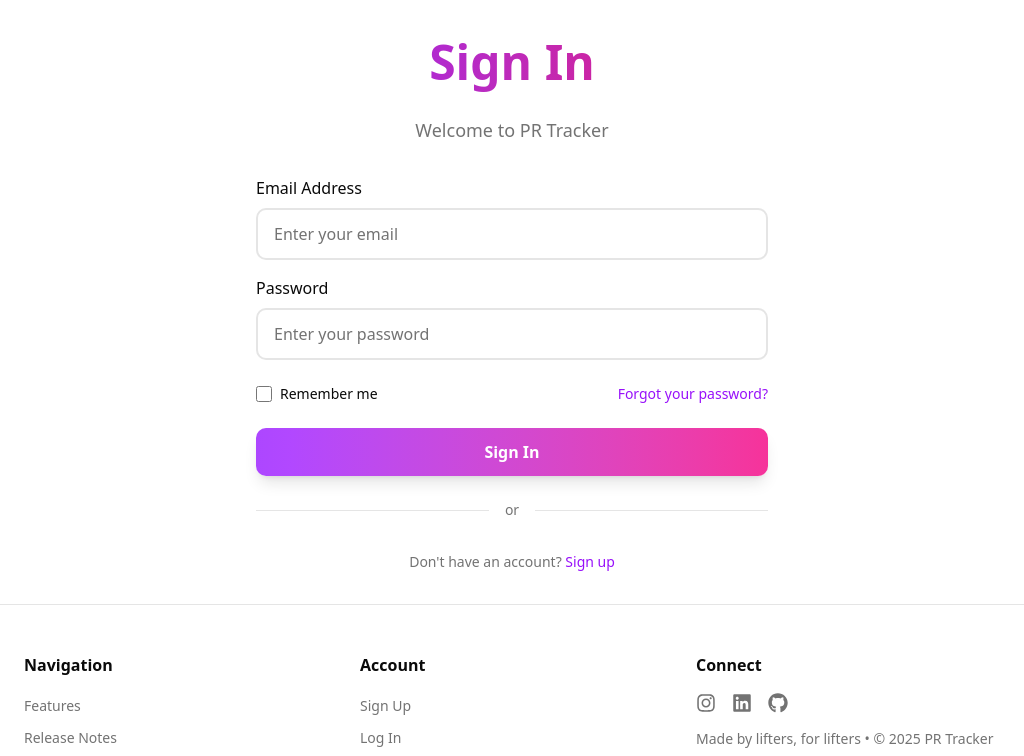
Test: LoginPage › Form Submission › shows error message on login failure
Type "test@example.com" into the field labelled "Email Address" at (512, 234), box [256, 208, 768, 260]
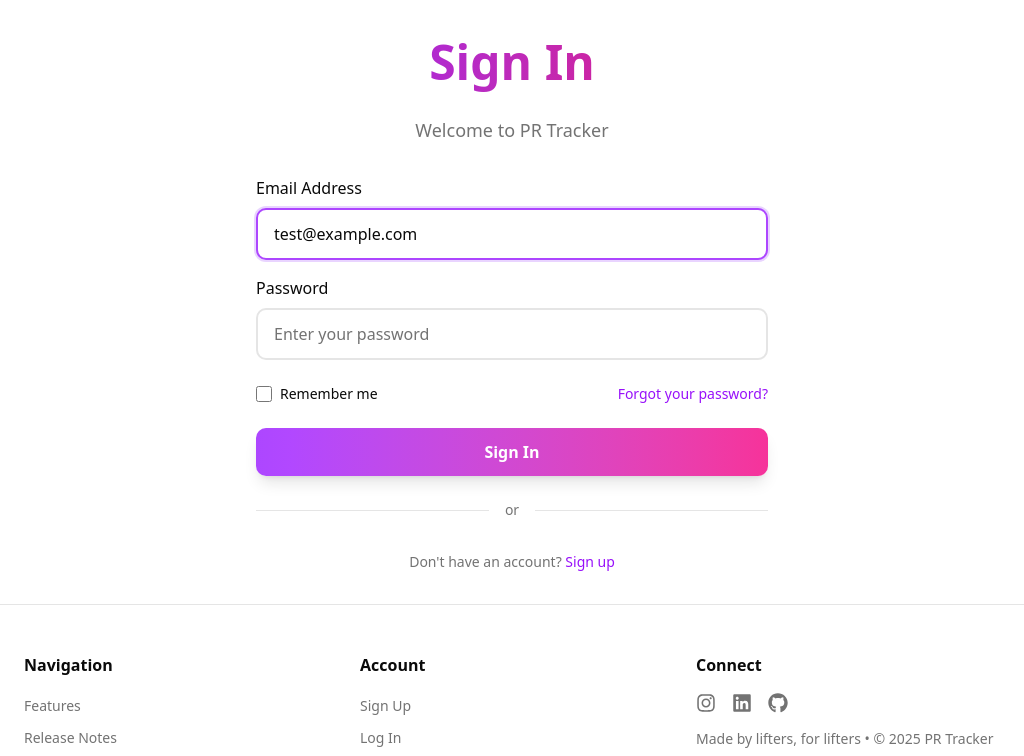
Type "wrongpassword" into the password field labelled "Password" at (512, 334), box [256, 308, 768, 360]
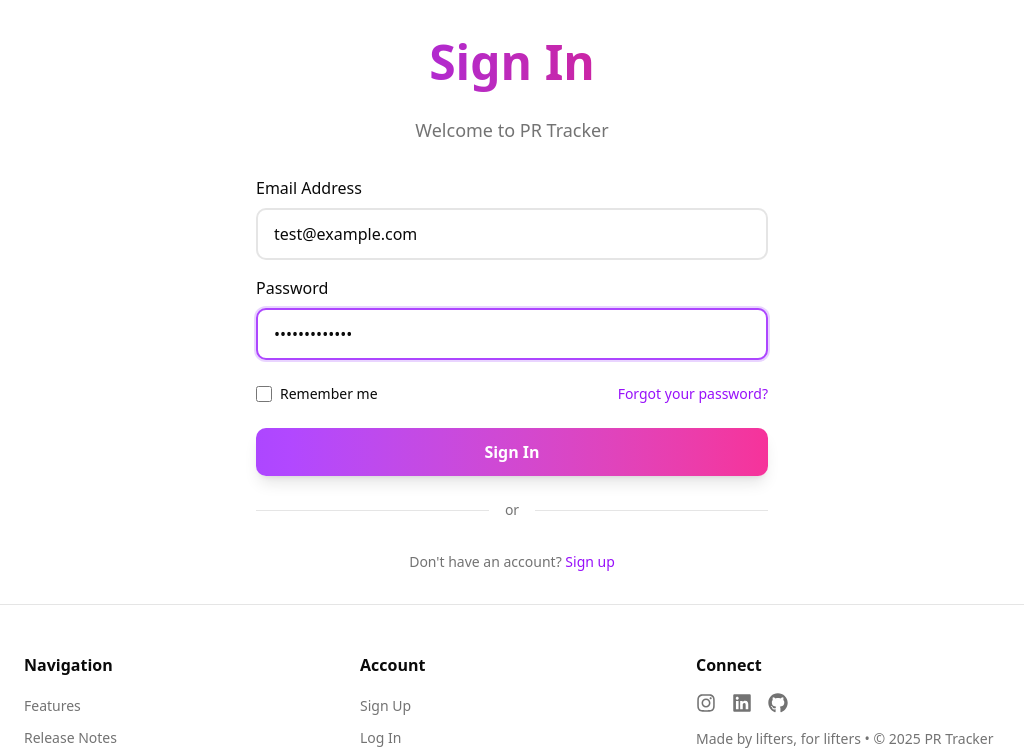
Click the button "Sign In" at (512, 452), box [256, 428, 768, 476]
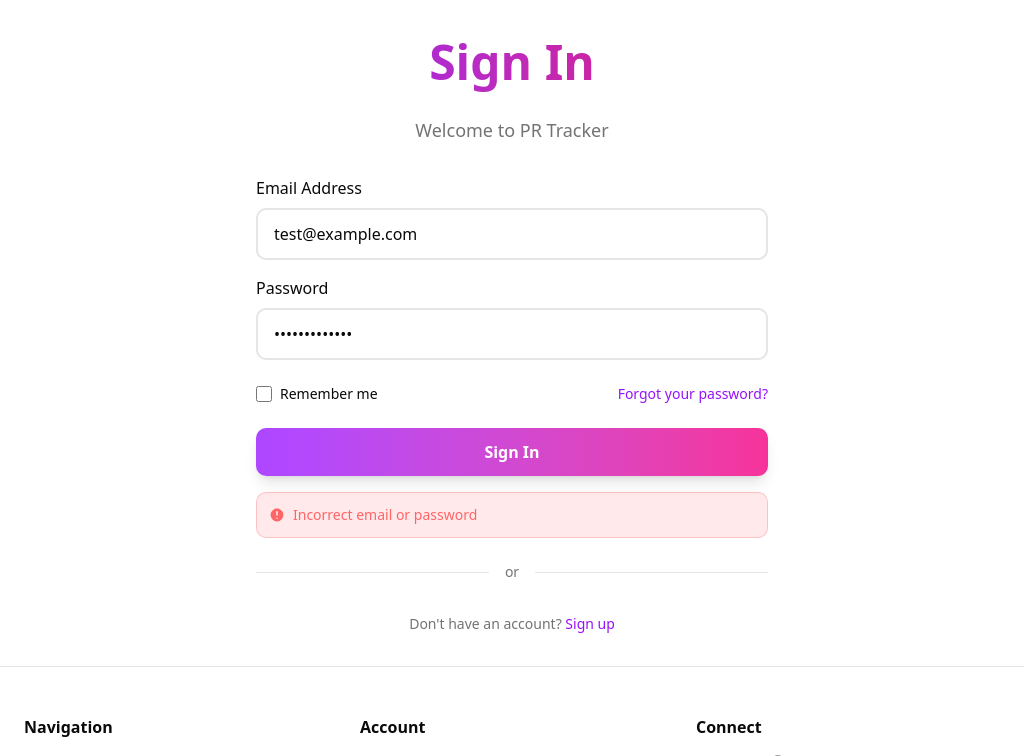
expect the text "Incorrect email or password" is shown: met, box [269, 505, 477, 524]
